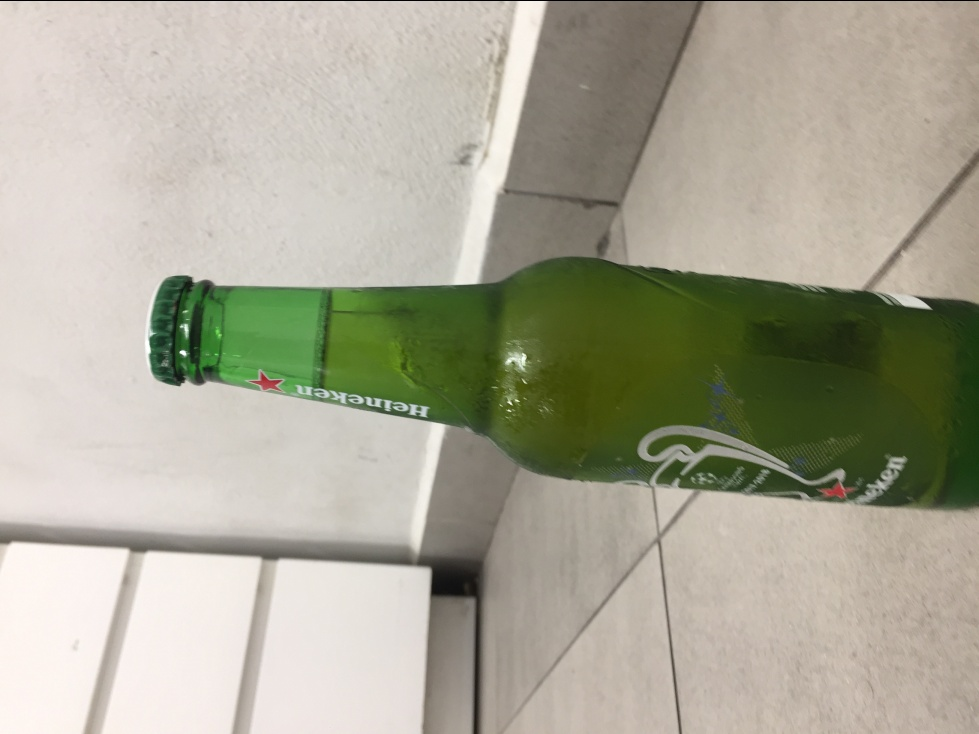heineken: (141, 252, 979, 513)
